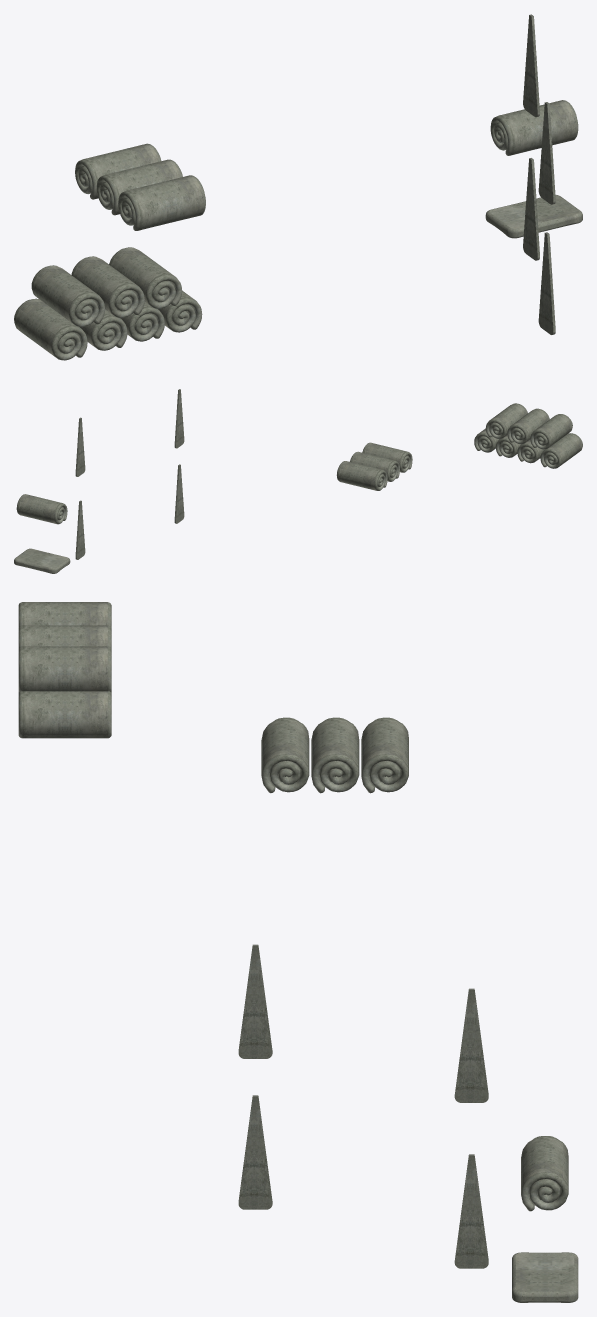
3 views of the same model, one above another, from view 1: azimuth 30°, elevation 25°; view 2: azimuth 150°, elevation 25°; view 3: azimuth 270°, elevation 25° (orthographic). The views are drawn at different scales.
Size of the model in its own units: 3 by 1 by 1.68.
1 material, 1 textured.
